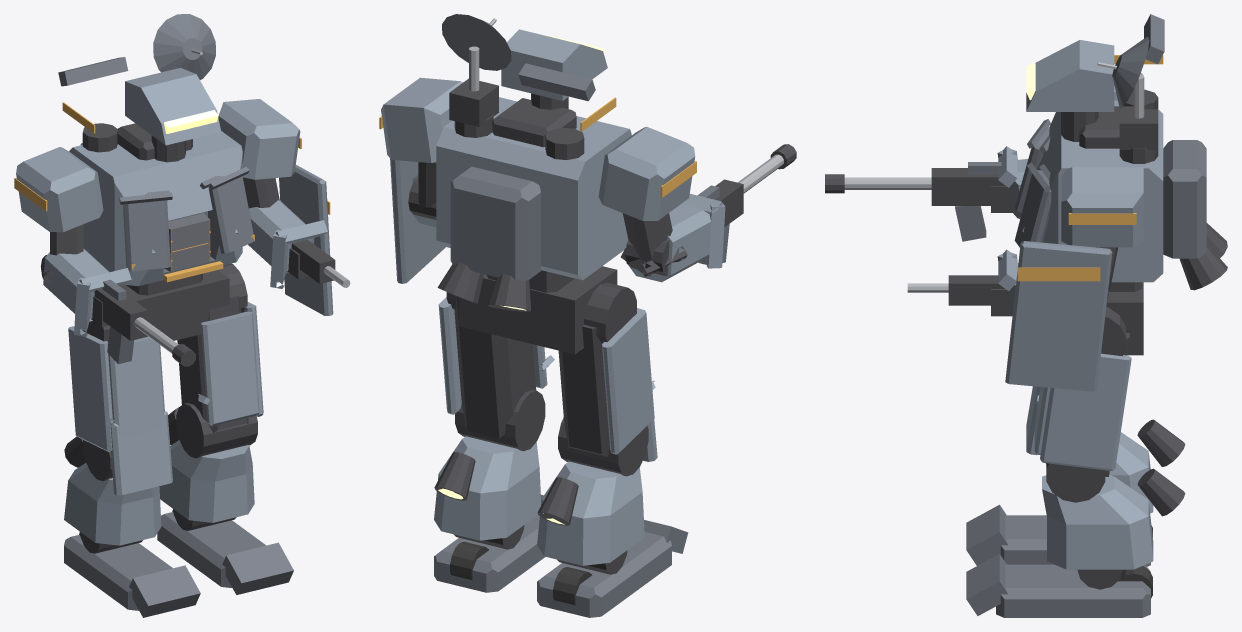
File: sabre.glb
3 renders of one model, left to right at view 1: azimuth 30°, elevation 25°; view 2: azimuth 150°, elevation 25°; view 3: azimuth 270°, elevation 25°, orthographic. The views are drawn at different scales.
Visible parts, largest first — view 1: core, shin1, thigh1_front, shin-1, shoulder-1, helm, shoulder1, thigh-1_front, thigh-1_out, hips, foot-1, shield1_slab (+31 smaller); view 2: core, pack, shin-1, shin1, thigh1, shoulder-1, hips, thigh-1_out, thigh-1, foot-1, shoulder1, forearm-1 (+25 smaller); view 3: shield1_slab, shin1, core, thigh1_out, foot1, shoulder1, helm, pack, rifle-1_rec, foot-1, pec1, toe1 (+25 smaller).
Part boxes in pixels (box(x1,y1,x2,y2)): core: box(69, 131, 242, 286); shin1: box(159, 440, 254, 522); thigh1_front: box(201, 311, 259, 426); shin-1: box(64, 463, 161, 545); shoulder-1: box(16, 147, 103, 232); helm: box(125, 67, 221, 145); shoulder1: box(218, 99, 300, 179); thigh-1_front: box(108, 336, 164, 438); thigh-1_out: box(68, 326, 112, 452); hips: box(119, 270, 229, 340); foot-1: box(64, 534, 172, 610); shield1_slab: box(279, 165, 333, 315); core: box(436, 97, 631, 280); pack: box(450, 166, 540, 280); shin-1: box(537, 461, 644, 565); shin1: box(434, 436, 541, 540); thigh1: box(454, 296, 536, 438); shoulder-1: box(598, 126, 695, 220); hips: box(459, 266, 617, 354); thigh-1_out: box(602, 309, 654, 454); thigh-1: box(558, 324, 609, 456); foot-1: box(537, 532, 671, 617); shoulder1: box(381, 77, 462, 162); forearm-1: box(629, 193, 725, 282); shield1_slab: box(1005, 241, 1112, 391); shin1: box(1042, 474, 1153, 569); core: box(1022, 100, 1163, 282); thigh1_out: box(1040, 353, 1131, 470); foot1: box(996, 564, 1150, 617); shoulder1: box(1061, 167, 1143, 247); helm: box(1026, 40, 1114, 111); pack: box(1163, 140, 1206, 258); rifle-1_rec: box(931, 168, 1005, 205); foot-1: box(1000, 515, 1150, 566); pec1: box(1014, 162, 1051, 247); toe1: box(966, 554, 1007, 615).
Bounding box in the file's own units: 13.44 × 25.52 × 16.62.
